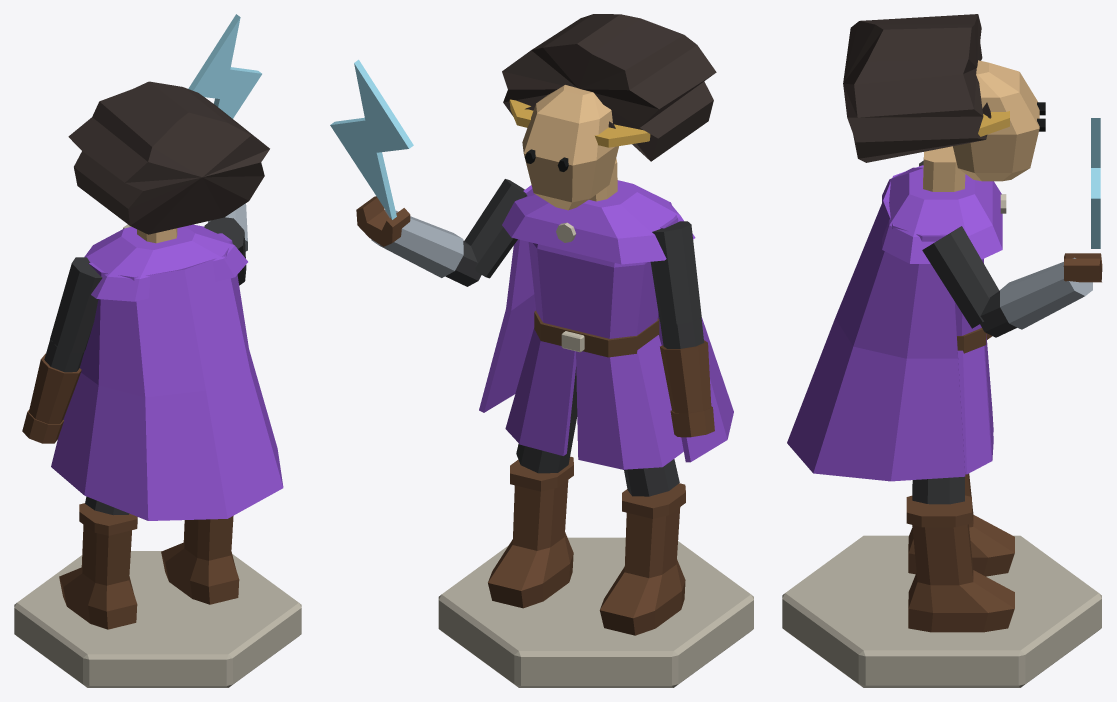
File: human_stormcaller_t3.glb
3 renders of one model, left to right at view 1: azimuth 30°, elevation 25°; view 2: azimuth 150°, elevation 25°; view 3: azimuth 270°, elevation 25°, orthographic. The views are drawn at different scales.
Parts seen in each view (by area): view 1: Broad_Pointed_Back_Cape, Foundation_Hexagonal_Stone, storm_one_connected_swept_back_hair, Continuous_Shoulder_Mantle, Boot_-1, Boot_1, storm_one_simple_zigzag_lightning, left_upper_sleeve, left_bracer, Boot_Cuff_-1, right_upper_sleeve, left_glove_mitten (+1 smaller); view 2: Foundation_Hexagonal_Stone, storm_one_connected_swept_back_hair, Continuous_Tunic_Bodice, Continuous_Shoulder_Mantle, Angular_Face, Continuous_Split_Tunic_Skirt, Boot_1, Boot_-1, Broad_Pointed_Back_Cape, storm_one_simple_zigzag_lightning, Split_Tunic_Front_1, Split_Tunic_Front_-1 (+14 smaller); view 3: Broad_Pointed_Back_Cape, Foundation_Hexagonal_Stone, storm_one_connected_swept_back_hair, Boot_1, Continuous_Shoulder_Mantle, Angular_Face, right_upper_sleeve, right_bracer, Continuous_Split_Tunic_Skirt, Boot_-1, Boot_Cuff_1, Small_Neck (+6 smaller).
Boxes of the visible parts, x1,y1,x2,y2 form: Broad_Pointed_Back_Cape: (51,233,283,520); Foundation_Hexagonal_Stone: (14,551,301,687); storm_one_connected_swept_back_hair: (68,81,269,234); Continuous_Shoulder_Mantle: (84,224,247,301); Boot_-1: (59,524,137,629); Boot_1: (161,516,239,604); storm_one_simple_zigzag_lightning: (188,14,261,118); left_upper_sleeve: (50,257,102,352); left_bracer: (29,353,81,423); Boot_Cuff_-1: (79,503,137,535); right_upper_sleeve: (204,217,246,285); left_glove_mitten: (22,410,63,443); Foundation_Hexagonal_Stone: (438,537,753,687); storm_one_connected_swept_back_hair: (502,14,716,161); Continuous_Tunic_Bodice: (528,242,658,338); Continuous_Shoulder_Mantle: (502,180,695,264); Angular_Face: (522,85,618,210); Continuous_Split_Tunic_Skirt: (505,328,683,469); Boot_1: (488,480,573,608); Boot_-1: (599,507,685,635); Broad_Pointed_Back_Cape: (479,185,733,462); storm_one_simple_zigzag_lightning: (330,59,413,219); Split_Tunic_Front_1: (519,341,576,455); Split_Tunic_Front_-1: (576,351,624,469); Broad_Pointed_Back_Cape: (787,165,965,481); Foundation_Hexagonal_Stone: (782,535,1101,687); storm_one_connected_swept_back_hair: (843,14,991,162); Boot_1: (908,524,1014,632); Continuous_Shoulder_Mantle: (882,167,1002,263); Angular_Face: (953,60,1039,181); right_upper_sleeve: (922,226,999,328); right_bracer: (1000,257,1092,329); Continuous_Split_Tunic_Skirt: (957,346,991,474); Boot_-1: (908,473,1014,576); Boot_Cuff_1: (906,495,971,527); Small_Neck: (923,146,965,191).
Bounding box in the file's own units: 1.08 × 1.94 × 0.9295.
